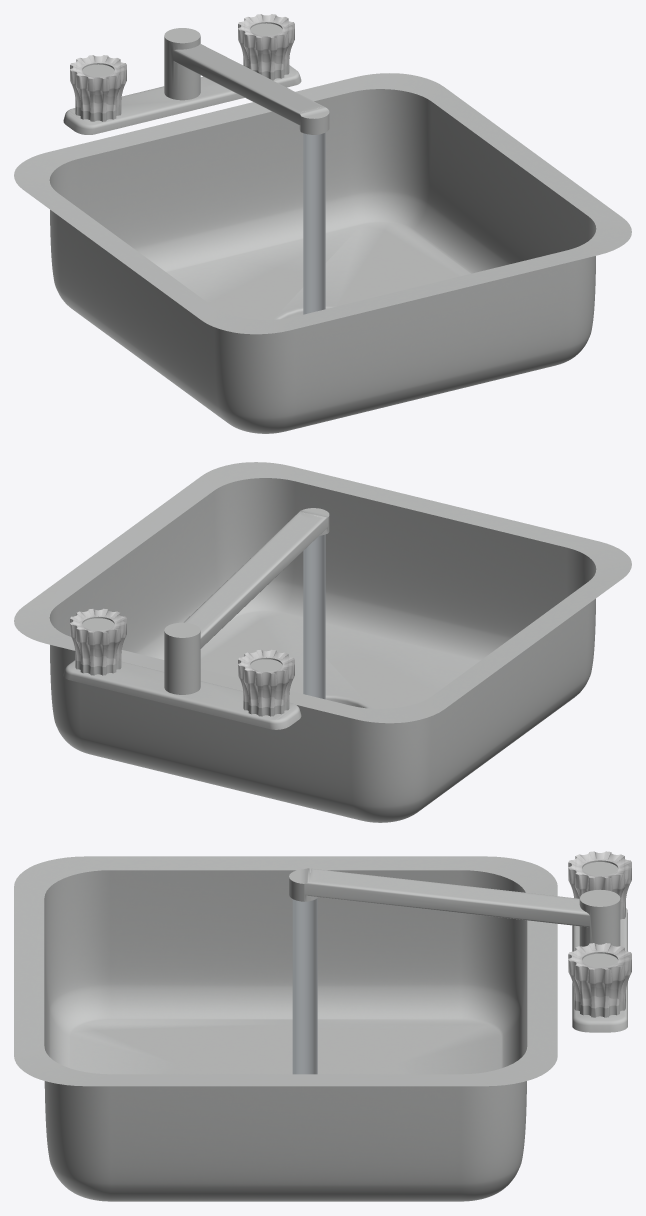
File: sink_running_water-v1.glb
3 views of the same model, one above another, from view 1: azimuth 30°, elevation 25°; view 2: azimuth 150°, elevation 25°; view 3: azimuth 270°, elevation 25° (orthographic). The views are drawn at different scales.
Visible parts, largest first — view 1: Material2 (×3), Material3; view 2: Material2 (×3), Material3; view 3: Material2 (×3), Material3.
Part boxes in pixels (box(x1,y1,x2,y2)): Material2 (×3): box(14, 14, 631, 433); Material3: box(303, 133, 325, 313); Material2 (×3): box(14, 462, 631, 822); Material3: box(303, 535, 325, 698); Material2 (×3): box(14, 851, 631, 1201); Material3: box(293, 898, 317, 1073).
Bounding box in the file's own units: 20.06 × 10.77 × 22.8.
6 materials, 1 textured.
